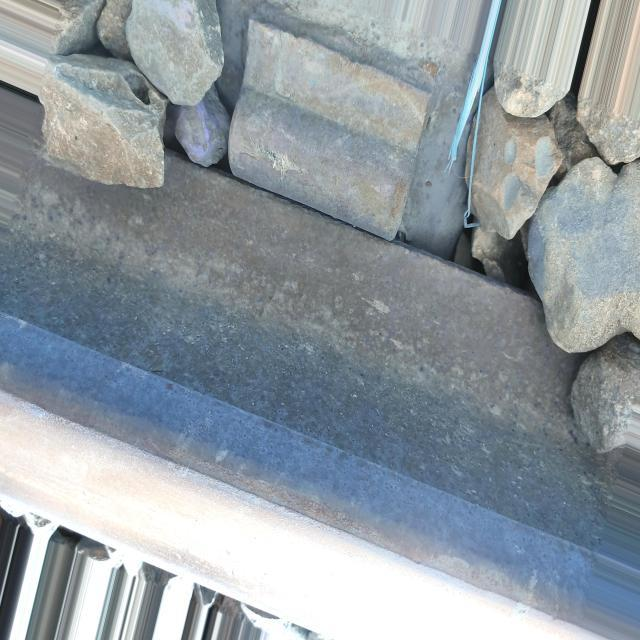Missing Fastener: (210, 1, 443, 272)
